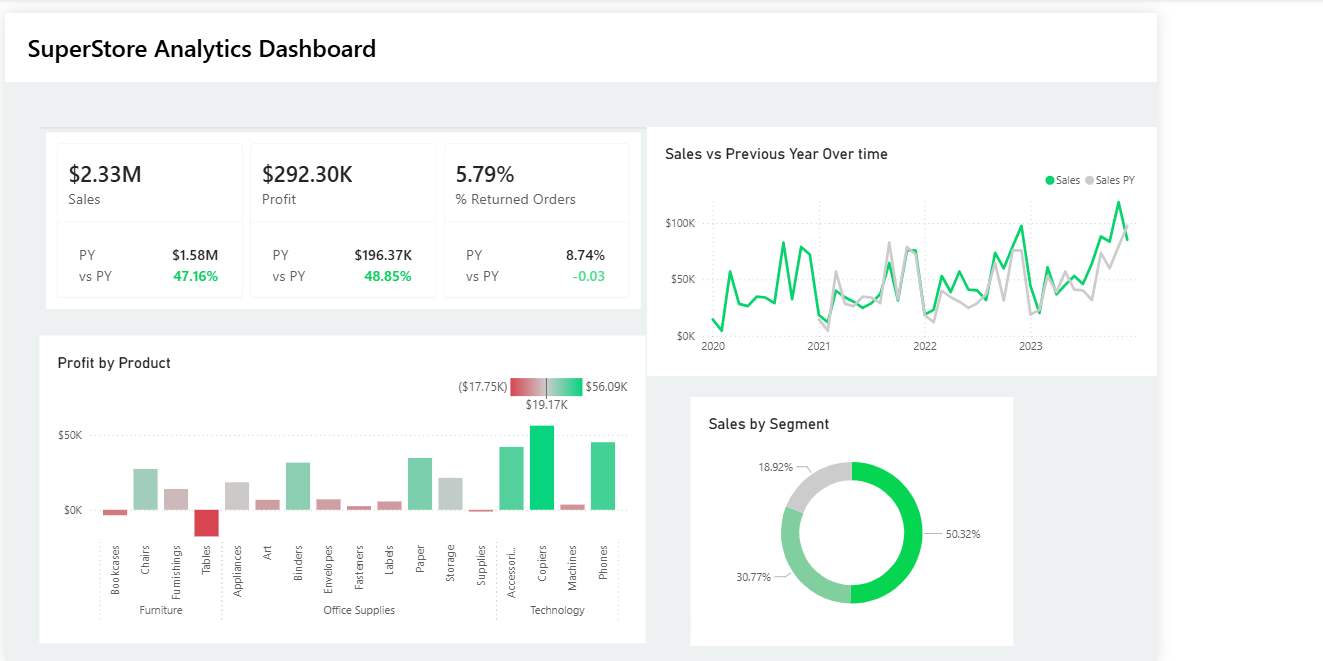

Layout of this report page (visuals, bound fields, positions):
{"tool":"powerbi","page":{"name":"Page 1","canvas":[1280,720],"ordinal":0},"visuals":[{"type":"cardVisual","fields":{"Data":["Key measures.Sales","Key measures.Profit","Key measures.% Returned Orders"]},"box":[37.5,120,675,215],"z":0},{"type":"shape","box":[0,0,1280,76.7],"z":1000},{"type":"lineChart","title":"Sales vs Previous Year Over time","fields":{"Y":["Key measures.Sales","Key measures.Sales PY"],"Category":["Date table.Start of Month"]},"box":[713.3,126.7,566.7,276.7],"z":2000},{"type":"columnChart","title":"Profit by Product","fields":{"Category":["Orders.Category","Orders.Sub-Category"],"Y":["Key measures.Profit"]},"box":[38.3,358.3,673.3,341.7],"z":3000},{"type":"donutChart","title":"Sales by Segment","fields":{"Y":["Key measures.Sales"],"Category":["Orders.Segment"]},"box":[761.7,426.7,358.3,276.7],"z":4000}]}

Visuals, with their boxes on the page's 1280x720 design canvas (x1, y1, x2, y2). These are canvas units, not pixel positions in the 1323x661 screenshot, which may show the page scaled, cropped or inside an application window:
cardVisual - Key measures.Sales x Key measures.Profit: 38, 120, 712, 335
shape: 0, 0, 1280, 77
"Sales vs Previous Year Over time" lineChart: 713, 127, 1280, 403
"Profit by Product" columnChart: 38, 358, 712, 700
"Sales by Segment" donutChart: 762, 427, 1120, 703
